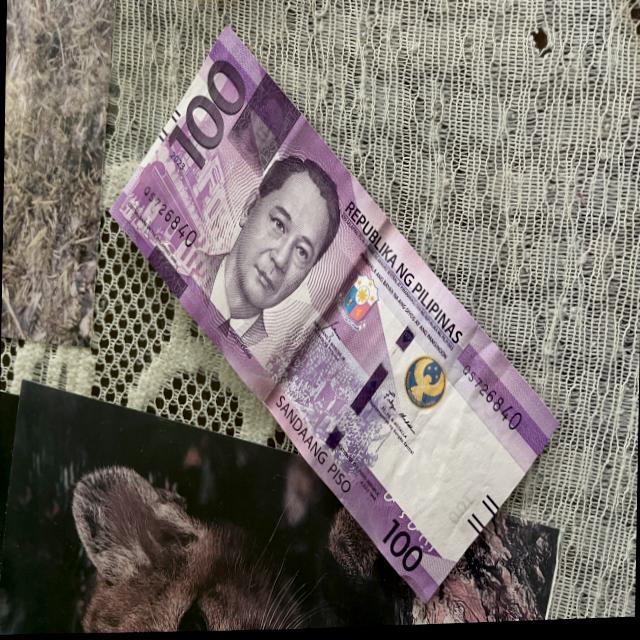concealed_value: (224, 73, 301, 182)
security_thread: (308, 280, 448, 475)
see_through_mark: (380, 489, 436, 560)
serial_number: (456, 364, 534, 449), (136, 183, 198, 254)
value: (164, 53, 253, 182)
value_watermark: (445, 493, 473, 532)
